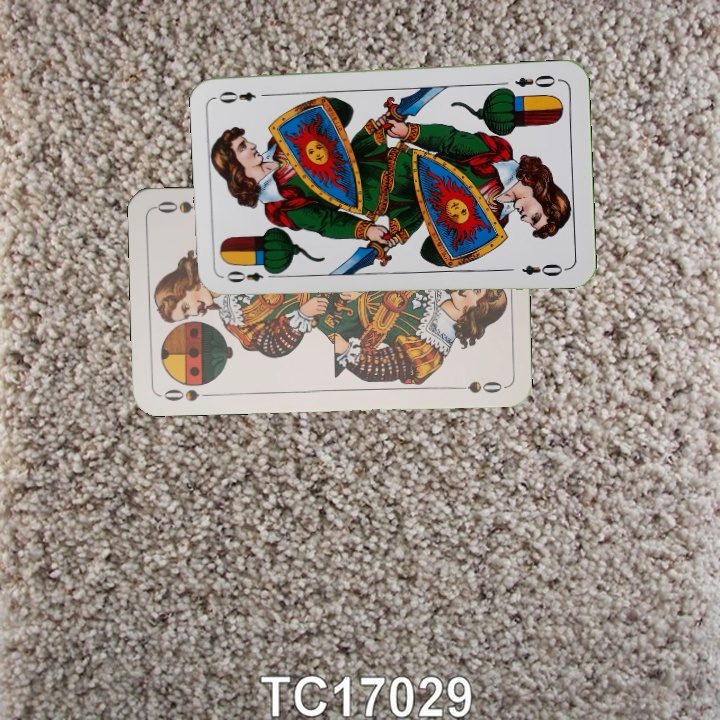EO: (222, 264, 280, 286), (511, 70, 558, 91)
SO: (157, 385, 216, 404)
